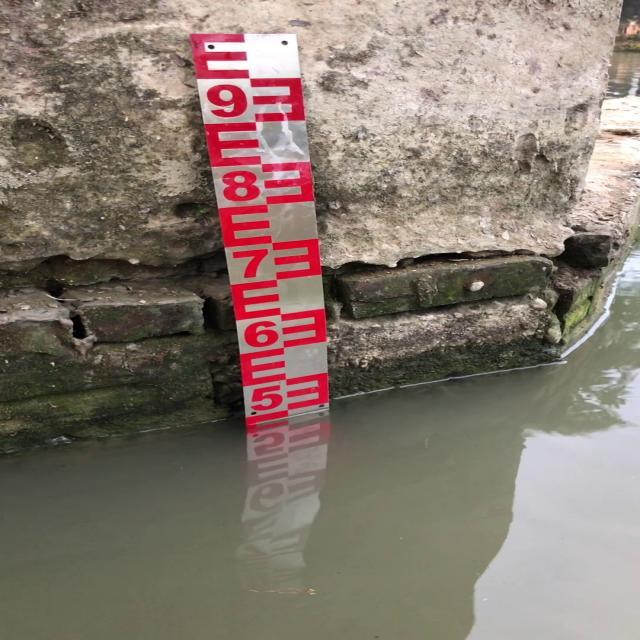ruler: (182, 19, 348, 430)
value: (196, 77, 254, 125), (212, 166, 266, 208), (228, 247, 280, 282), (238, 318, 284, 351), (245, 381, 288, 416)
